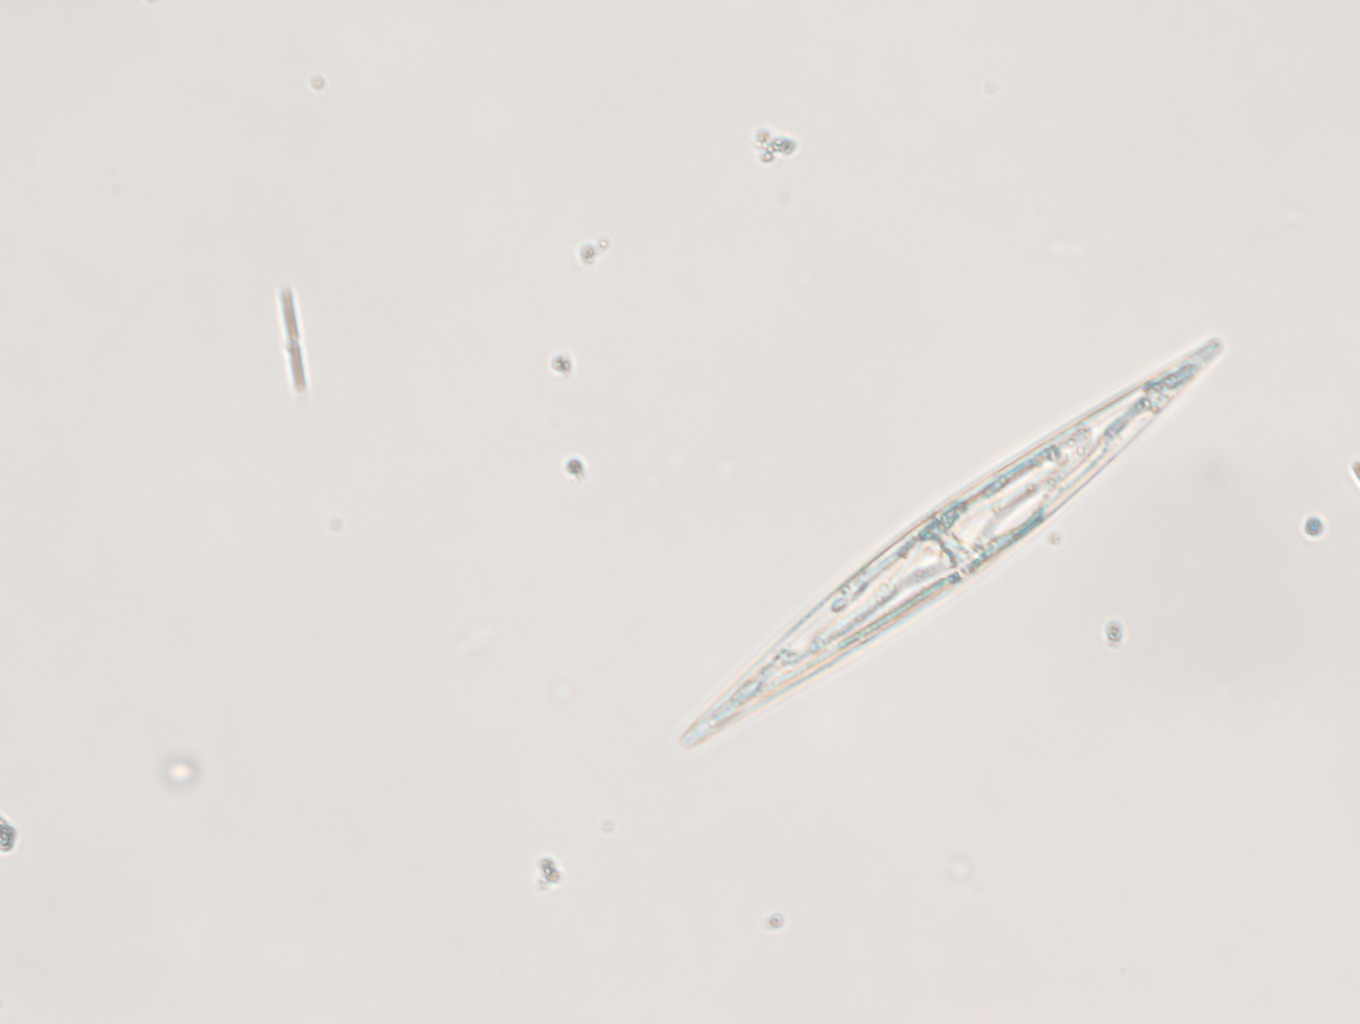navicula: (665, 326, 1233, 756)
